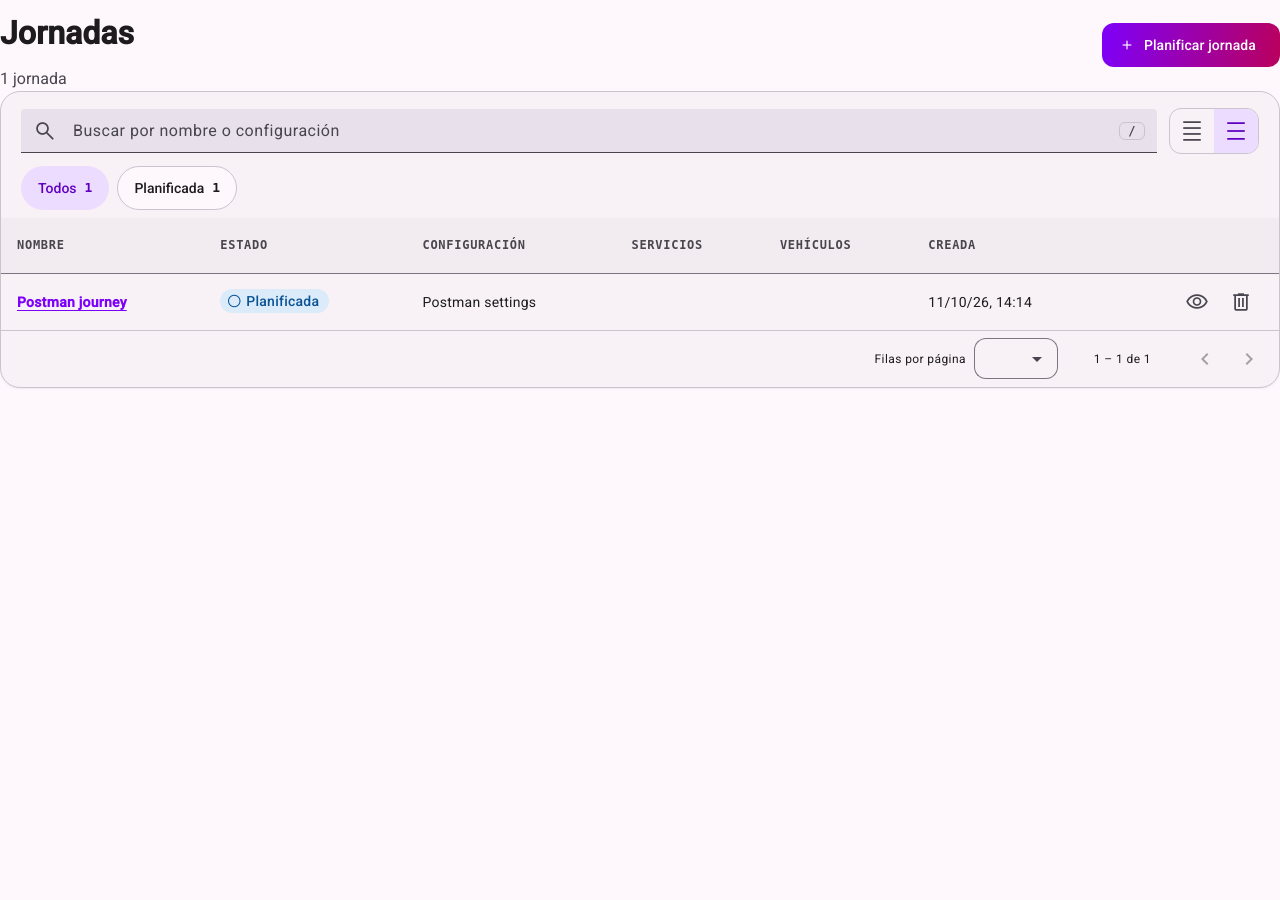
Test case: JourneyListComponent › borrado › borra tras confirmar y recarga
The image size is (1280, 900).
Step 1. Click the button named "Eliminar la jornada Postman journey" → (1241, 302), box x1=1219 y1=280 x2=1263 y2=324
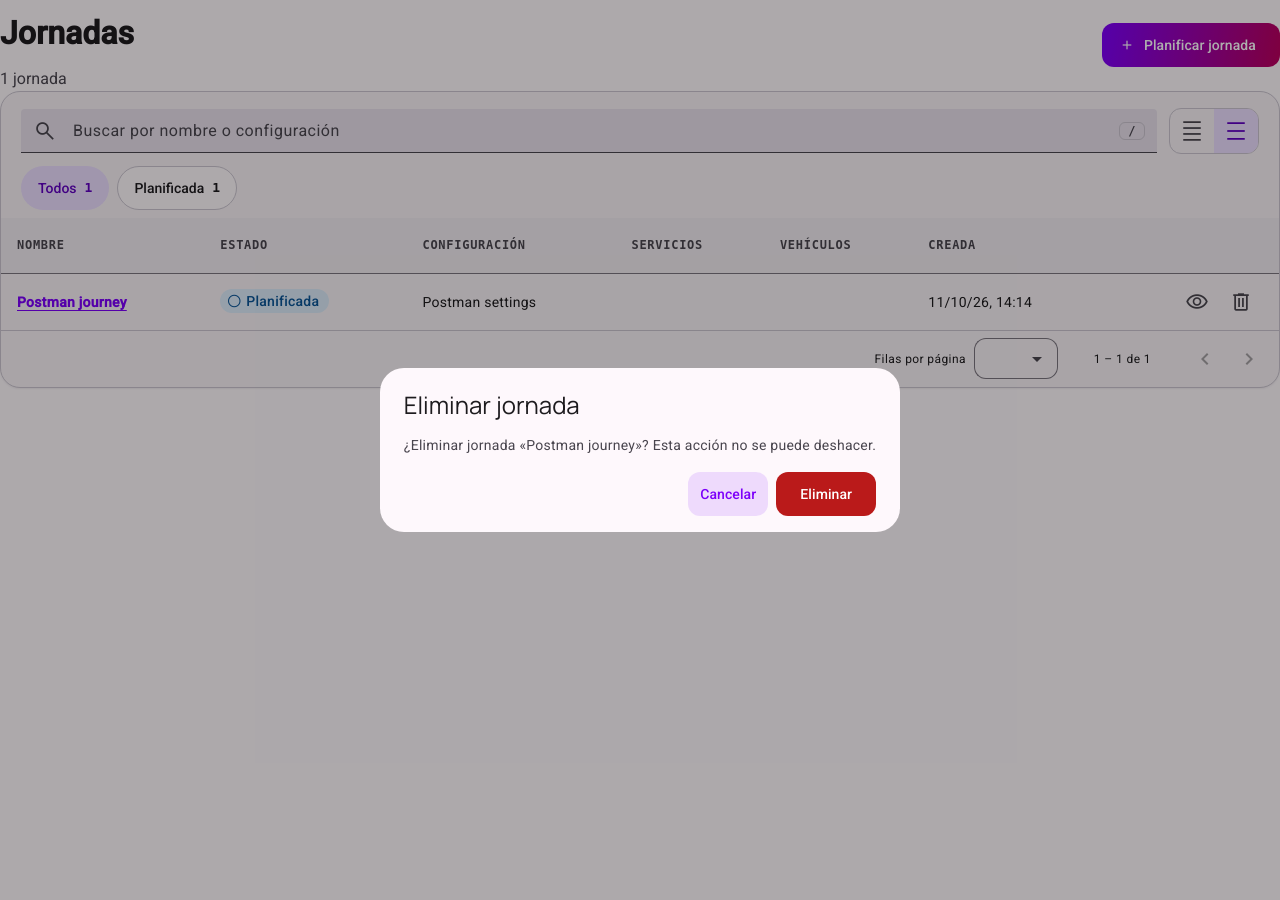
Step 2. Click the button "Eliminar" → (826, 494), box x1=776 y1=472 x2=876 y2=516
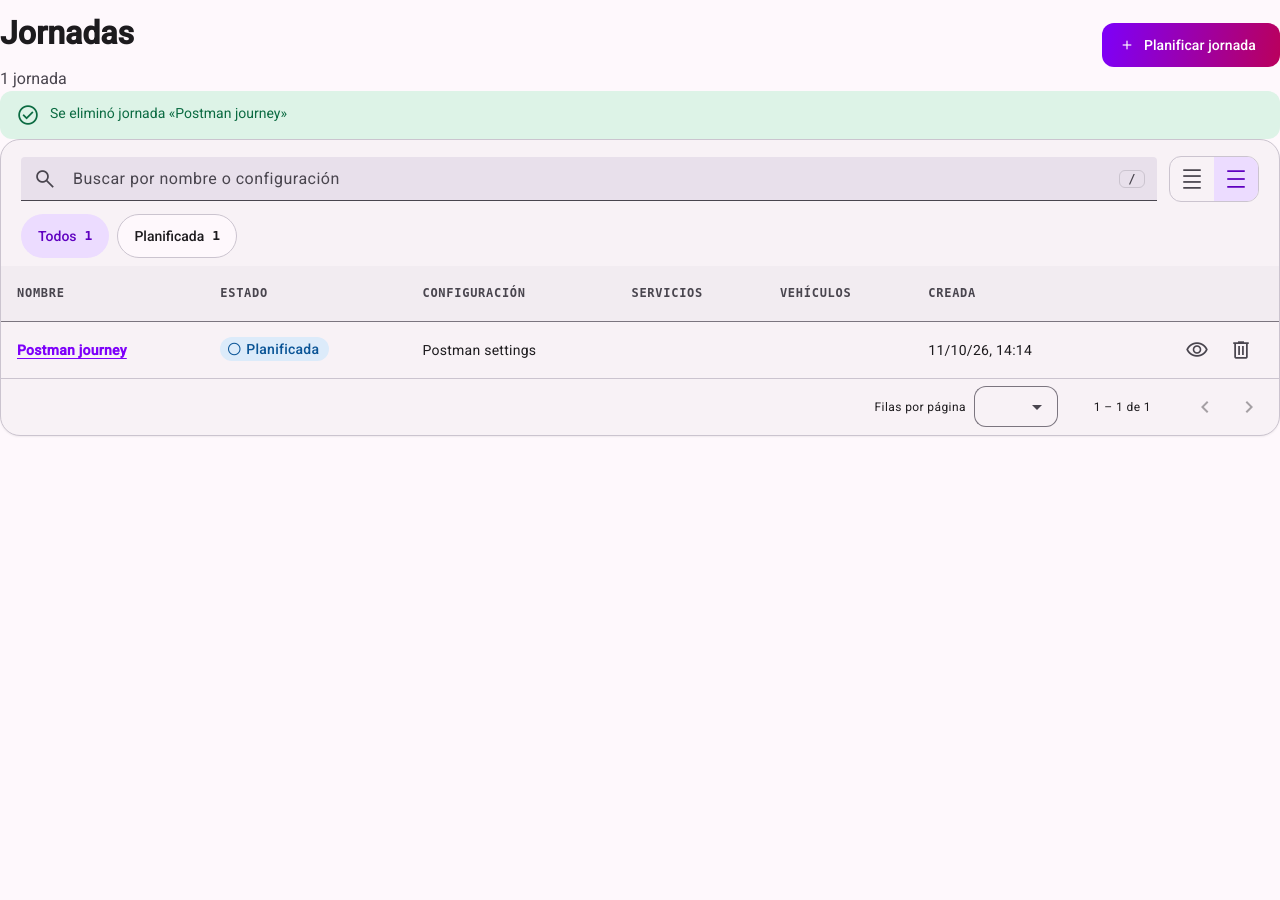
Expected: the text "Se eliminó jornada «Postman journey»" is shown, x1=50 y1=103 x2=287 y2=123
